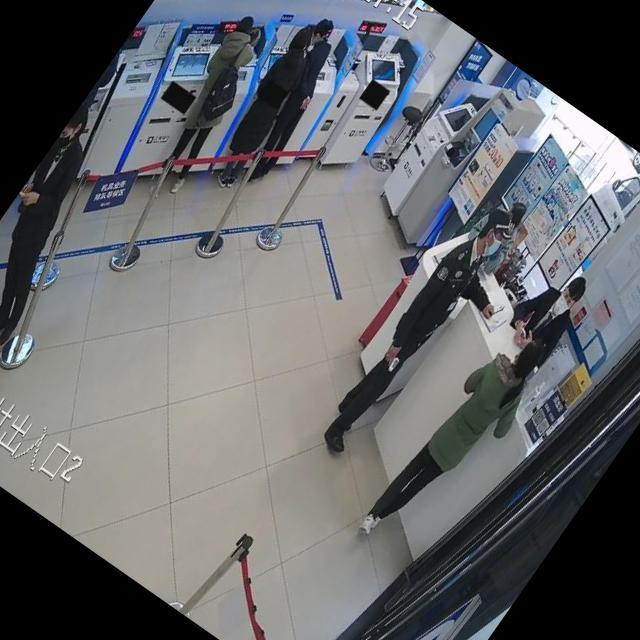person: (313, 194, 547, 483), (353, 314, 562, 570), (354, 314, 562, 570), (0, 100, 145, 352), (0, 101, 145, 353), (129, 9, 285, 202), (220, 15, 362, 190), (196, 20, 334, 194), (31, 32, 140, 182), (492, 255, 598, 372), (0, 197, 46, 383), (453, 187, 538, 283), (452, 189, 536, 282)
